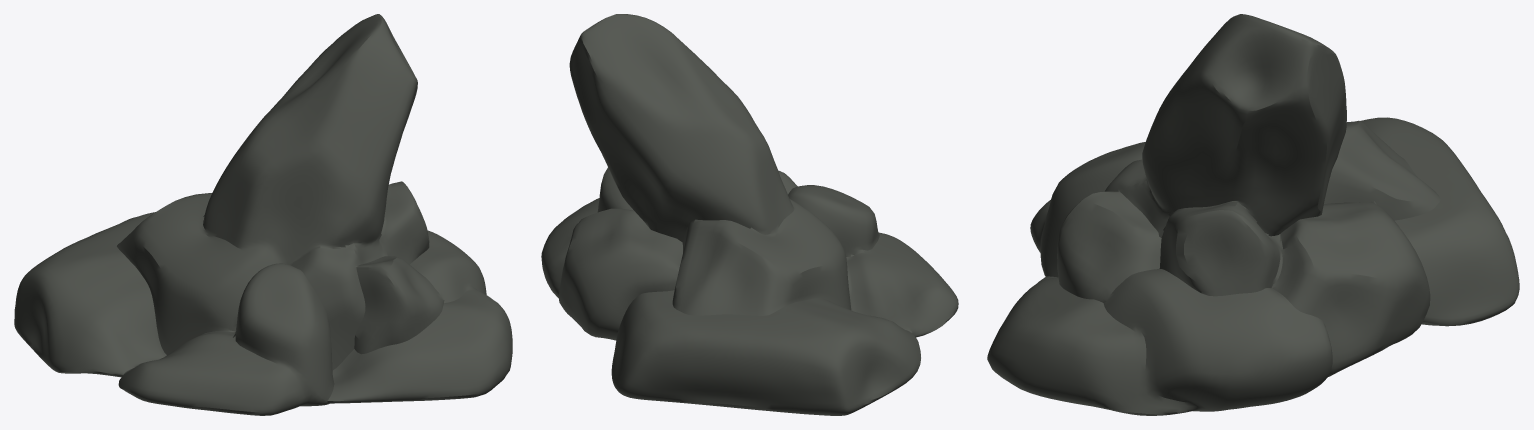
Rendered from Rocks-fy3szRMvuE.glb.
3 views of the same model, side by side, from view 1: azimuth 30°, elevation 25°; view 2: azimuth 150°, elevation 25°; view 3: azimuth 270°, elevation 25° (orthographic). The views are drawn at different scales.
Parts seen in each view (by area): view 1: Environment_Cliff4; view 2: Environment_Cliff4; view 3: Environment_Cliff4.
Boxes of the visible parts, x1=… form: Environment_Cliff4: x1=14, y1=14, x2=512, y2=415; Environment_Cliff4: x1=541, y1=14, x2=958, y2=415; Environment_Cliff4: x1=987, y1=14, x2=1519, y2=415.
Bounding box in the file's own units: 7.38 × 5.53 × 7.12.
Materials: 1 (1 with a texture image).
